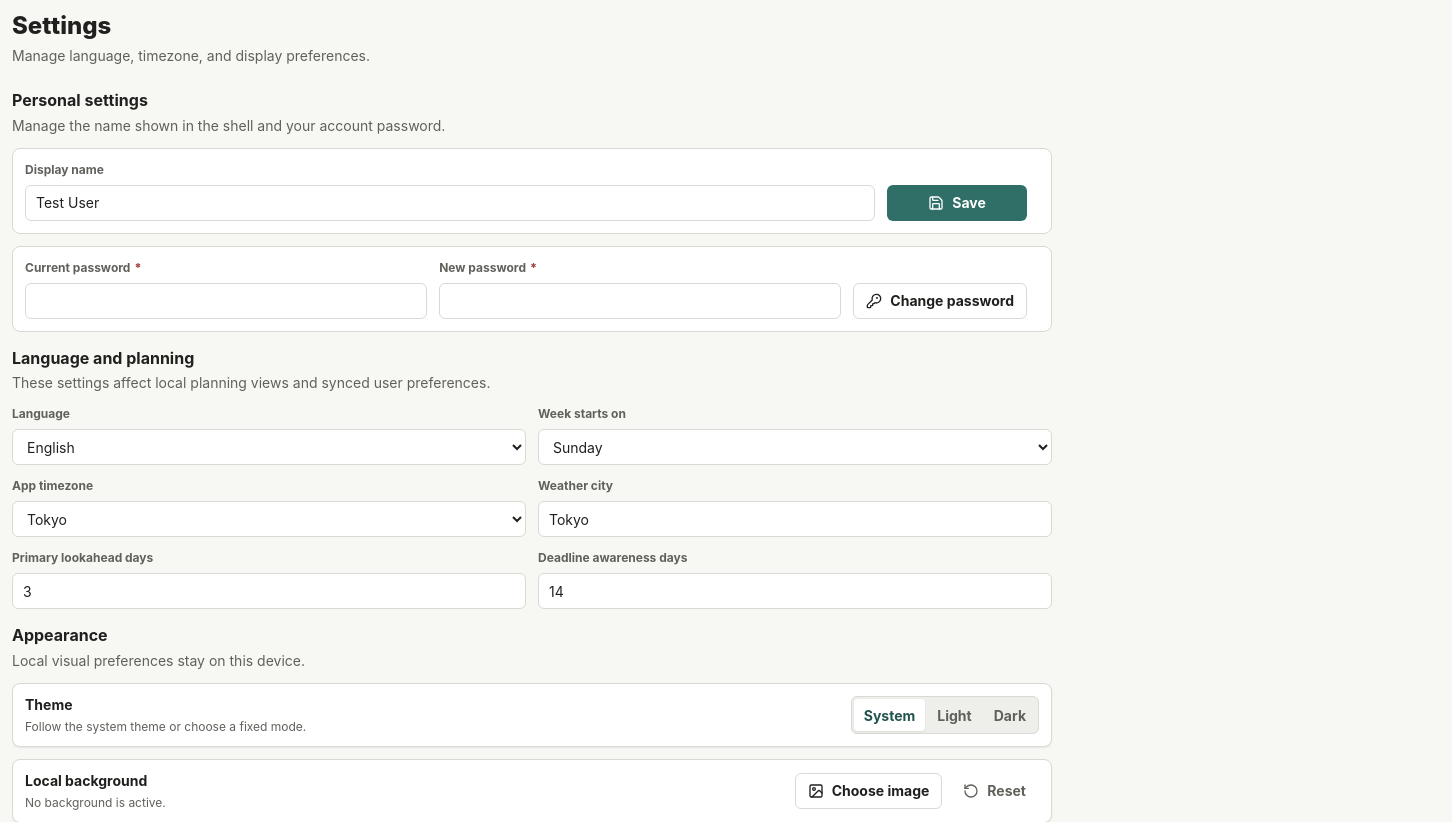
Test: SettingsPage › updates the synced language setting and refreshes visible labels
Check: the heading "Settings" is shown, box [12, 11, 111, 40]
Check: the dropdown labelled "App timezone" shows "Tokyo", box [12, 501, 526, 537]
Select "Simplified Chinese" in the dropdown labelled "Language" at (269, 447), box [12, 429, 526, 465]
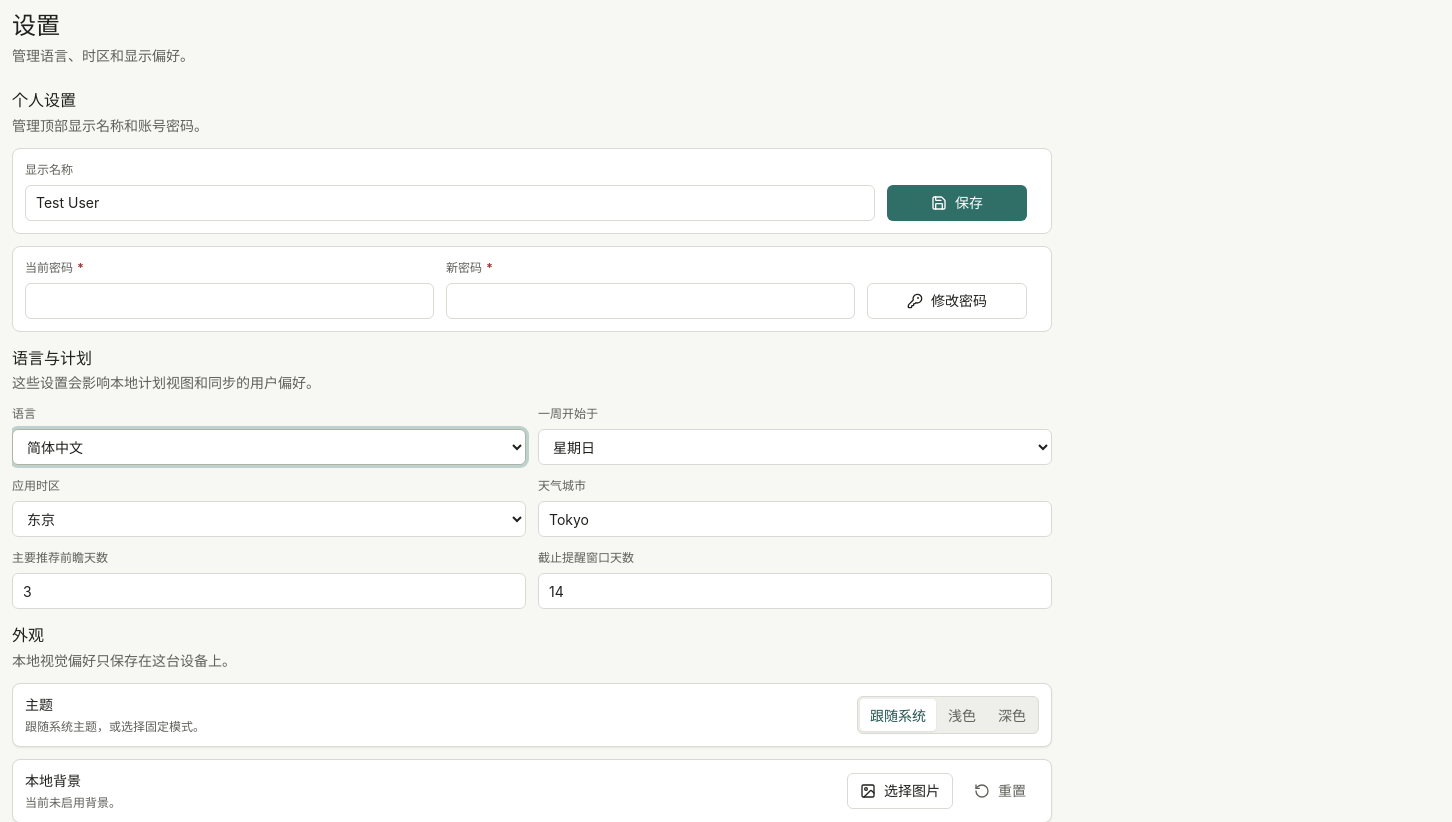
Check: the heading "设置" is shown, box [12, 11, 60, 40]
